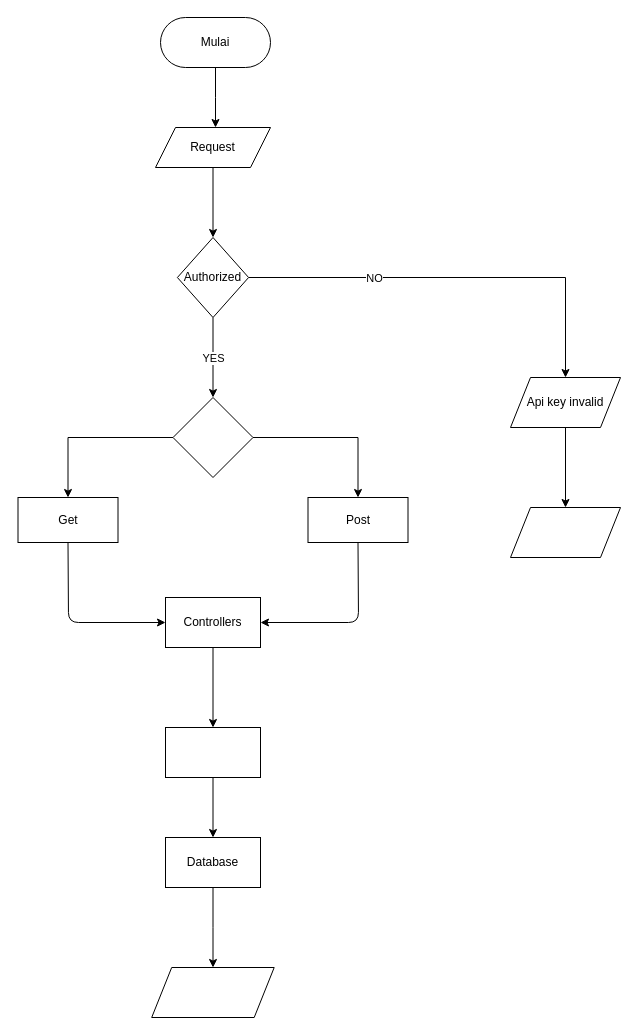
Image size: 638x1035. Some labels were removed from this diagram. The centre of each missing label's shape, as x and y in pixels:
"Models" goes at point (212, 752).
"Print json" goes at point (212, 992).
"return code 403" goes at point (565, 532).
"Routes" goes at point (212, 437).
